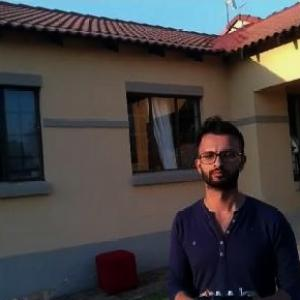follow: (163, 110, 300, 299)
null: (1, 274, 71, 299)
